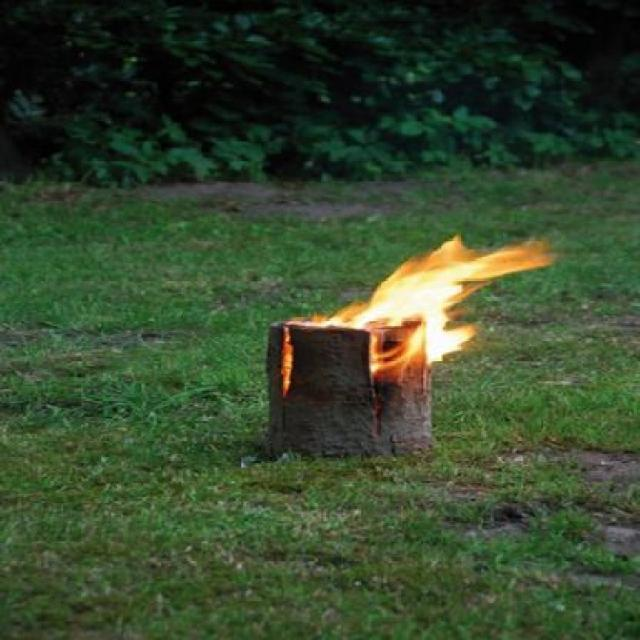Fire: (343, 229, 558, 360)
